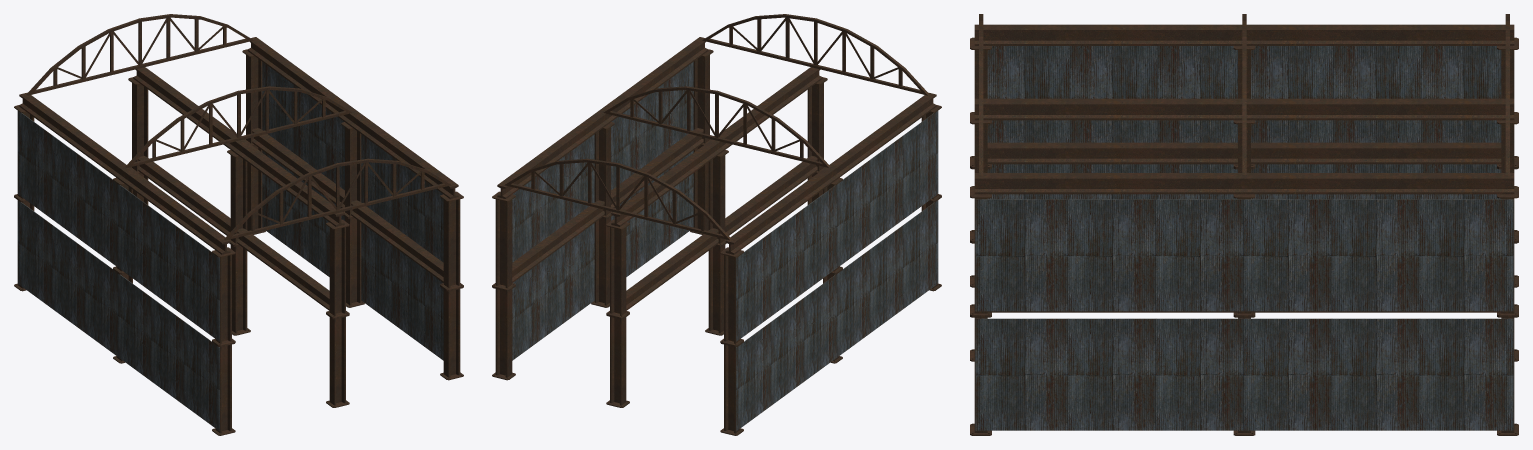
Rendered from warehouse_hl_1.obj.
The picture shows the model from 3 angles, left to right: view 1: azimuth 30°, elevation 25°; view 2: azimuth 150°, elevation 25°; view 3: azimuth 270°, elevation 25°; orthographic projection. The views are drawn at different scales.
Visible parts, largest first — view 1: warehouse_hl_1; view 2: warehouse_hl_1; view 3: warehouse_hl_1.
Part boxes in pixels (x1,y1,x2,y2): warehouse_hl_1: (14, 14, 463, 435); warehouse_hl_1: (492, 14, 941, 435); warehouse_hl_1: (970, 14, 1518, 435).
Size of the model in its own units: 8.6 by 8.02 by 12.5.
